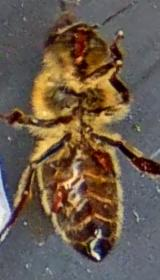varroa_mite: (84, 144, 120, 185), (38, 184, 74, 220)
